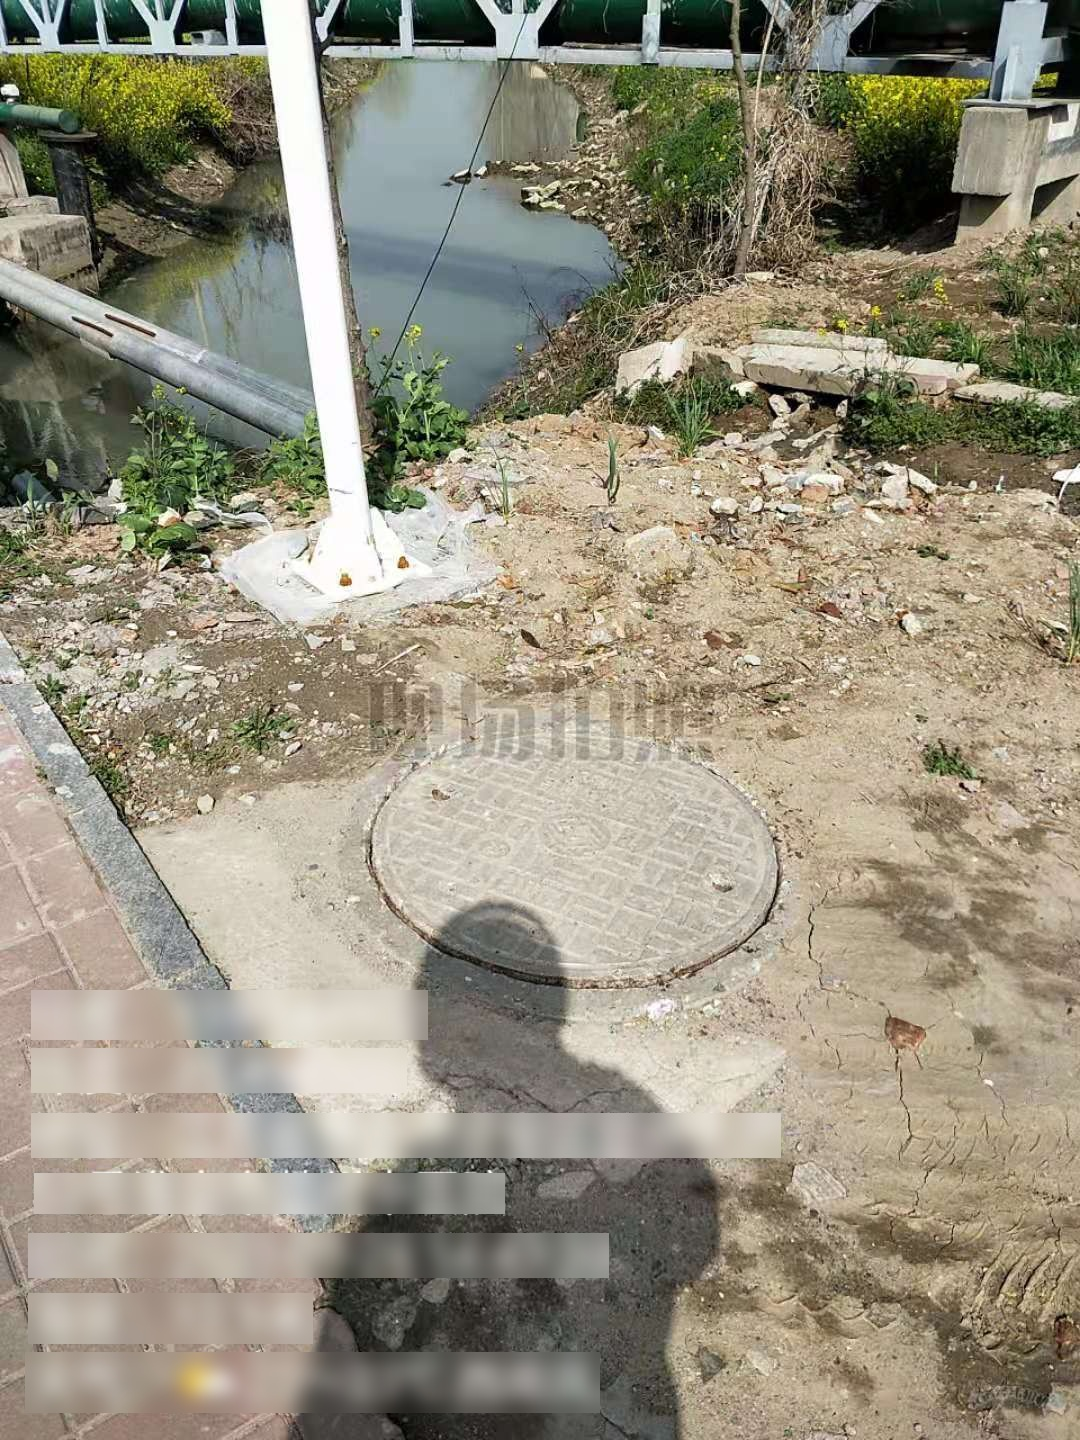good: (341, 723, 800, 1017)
